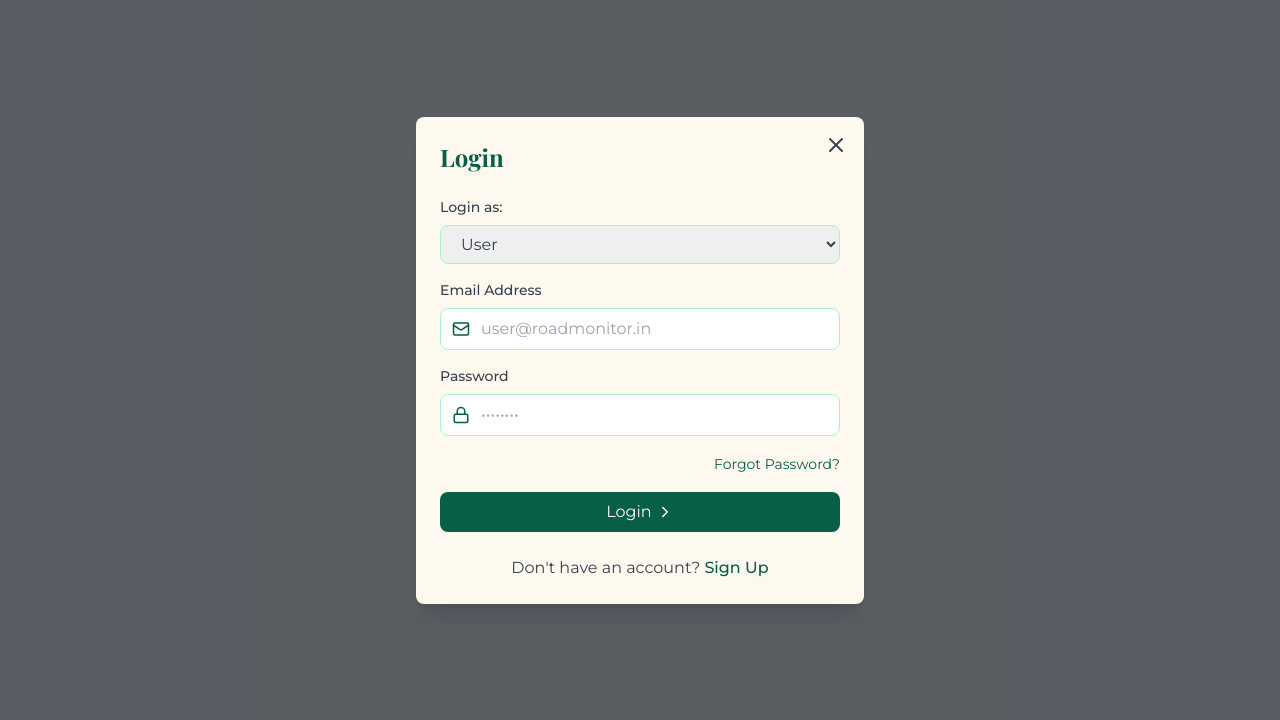
Test: LoginModal › shows error for invalid admin email
Step 1. Select "Admin" in the dropdown labelled "Login as:" → (640, 244), box [440,224,840,264]
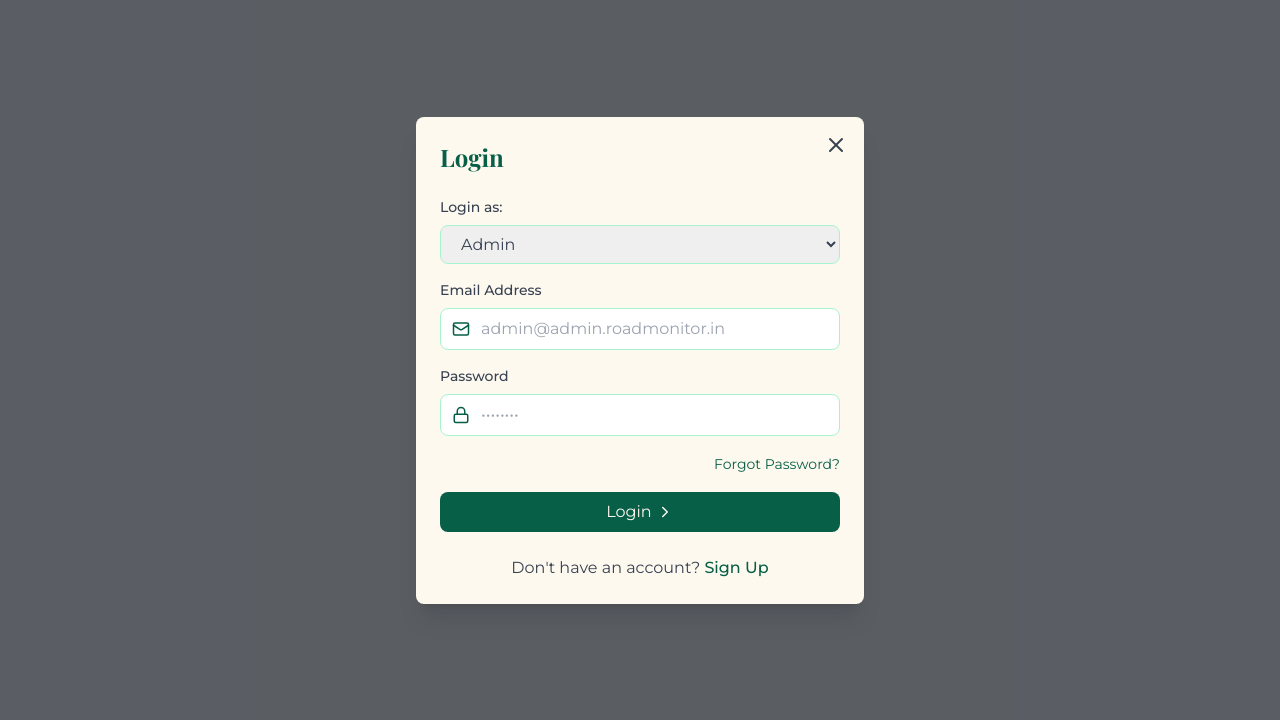
Step 2. Type "admin@gmail.com" into the field labelled "Email Address" → (640, 328), box [440,308,840,350]
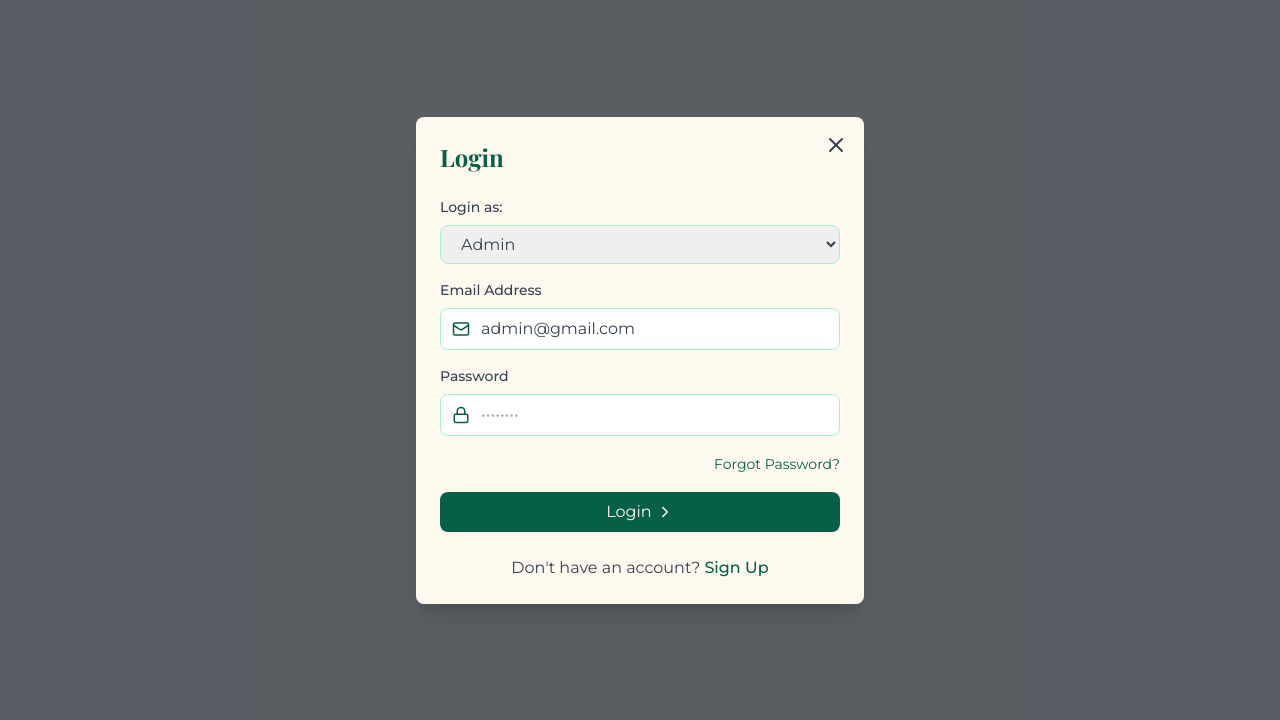
Step 3. Type "admin123" into the password field labelled "Password" → (640, 414), box [440,394,840,436]
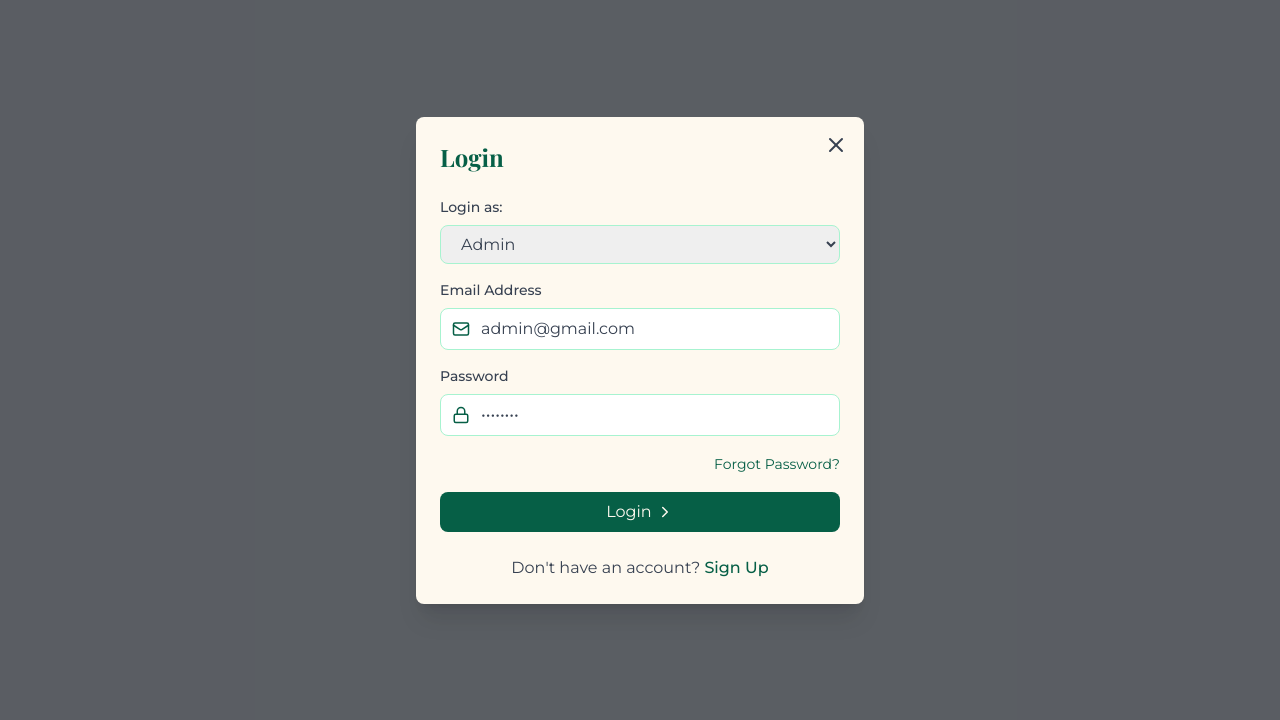
Step 4. Click the button "Login" → (640, 512), box [440,492,840,532]
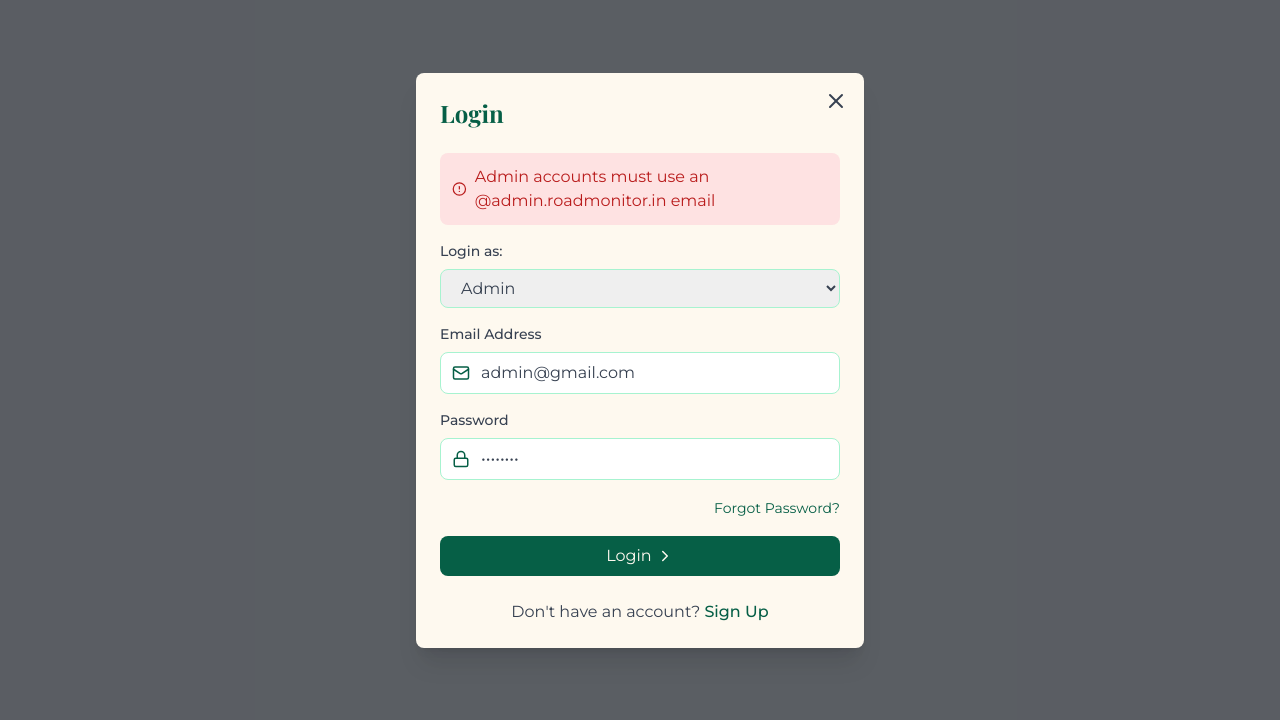
Expected: the text "Admin accounts must use an @admin.roadmonitor.in email" is shown, [440,152,840,224]
